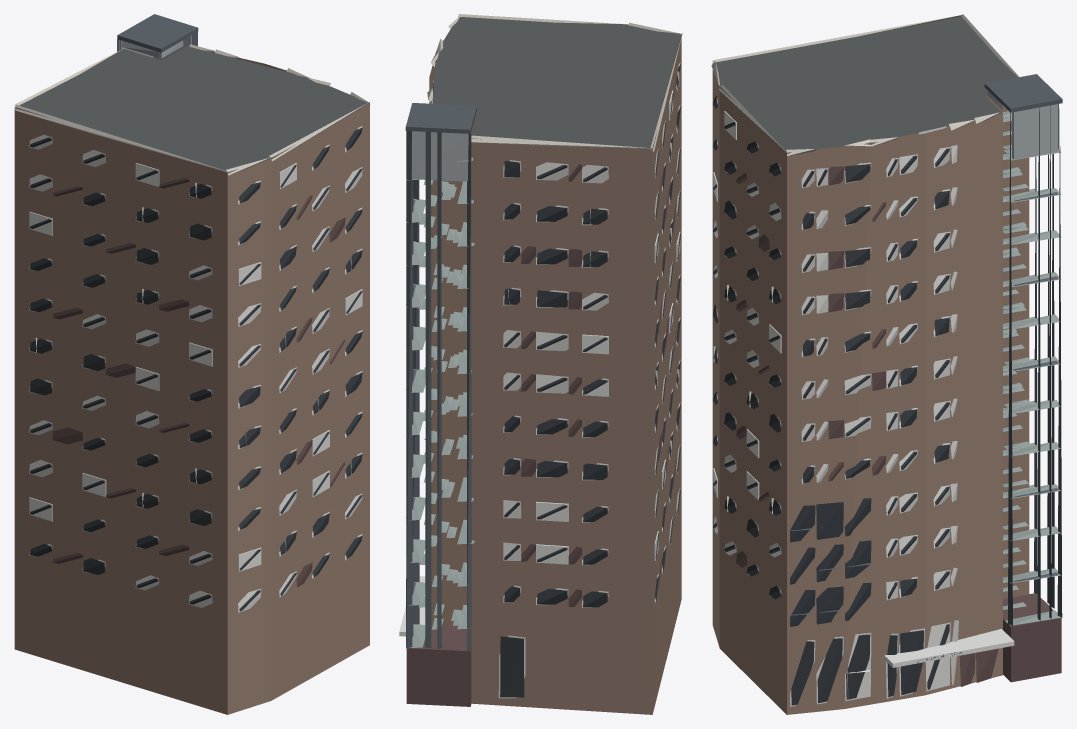
The model's file is wilhelminatoren.lod1.glb.
The picture shows the model from 3 angles, left to right: view 1: azimuth 30°, elevation 25°; view 2: azimuth 150°, elevation 25°; view 3: azimuth 270°, elevation 25°; orthographic projection. The views are drawn at different scales.
Parts seen in each view (by area): view 1: wilhelminatoren; view 2: wilhelminatoren; view 3: wilhelminatoren.
Part boxes in pixels (x1,y1,x2,y2): wilhelminatoren: [14, 14, 370, 714]; wilhelminatoren: [399, 14, 682, 714]; wilhelminatoren: [711, 14, 1062, 714].
Bounding box in the file's own units: 21.9 × 42.5 × 23.56.
